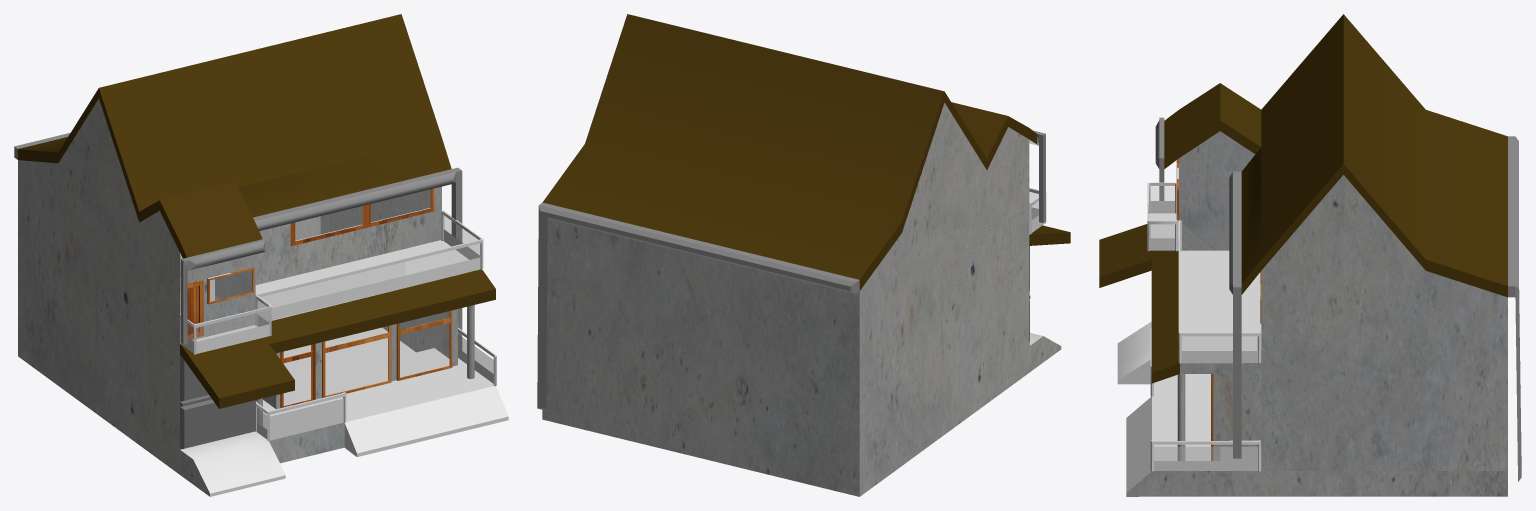
Rendered from house.gltf.
3 views of the same model, side by side, from view 1: azimuth 30°, elevation 25°; view 2: azimuth 150°, elevation 25°; view 3: azimuth 270°, elevation 25° (orthographic). The views are drawn at different scales.
Visible parts, largest first — view 1: Mesh, Mesh (6), Mesh (4), Mesh (7), Mesh (5), Mesh (3); view 2: Mesh, Mesh (6); view 3: Mesh, Mesh (6), Mesh (7), Mesh (3).
Part boxes in pixels (box(x1,y1,x2,y2)): Mesh: box(14, 98, 508, 496); Mesh (6): box(18, 14, 495, 408); Mesh (4): box(180, 354, 255, 449); Mesh (7): box(180, 210, 496, 441); Mesh (5): box(187, 280, 203, 338); Mesh (3): box(256, 305, 474, 426); Mesh: box(537, 102, 1061, 496); Mesh (6): box(542, 14, 1070, 290); Mesh: box(1117, 117, 1521, 496); Mesh (6): box(1099, 14, 1507, 383); Mesh (7): box(1147, 182, 1260, 471); Mesh (3): box(1177, 374, 1185, 460).
Bounding box in the file's own units: 5.62 × 5.59 × 6.43.
Materials: 8 (2 with a texture image).
